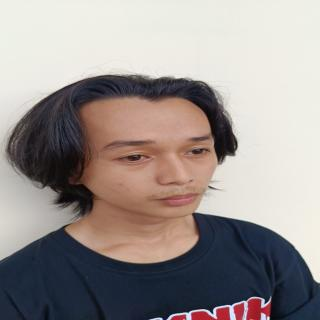Netral: (74, 91, 225, 223)
